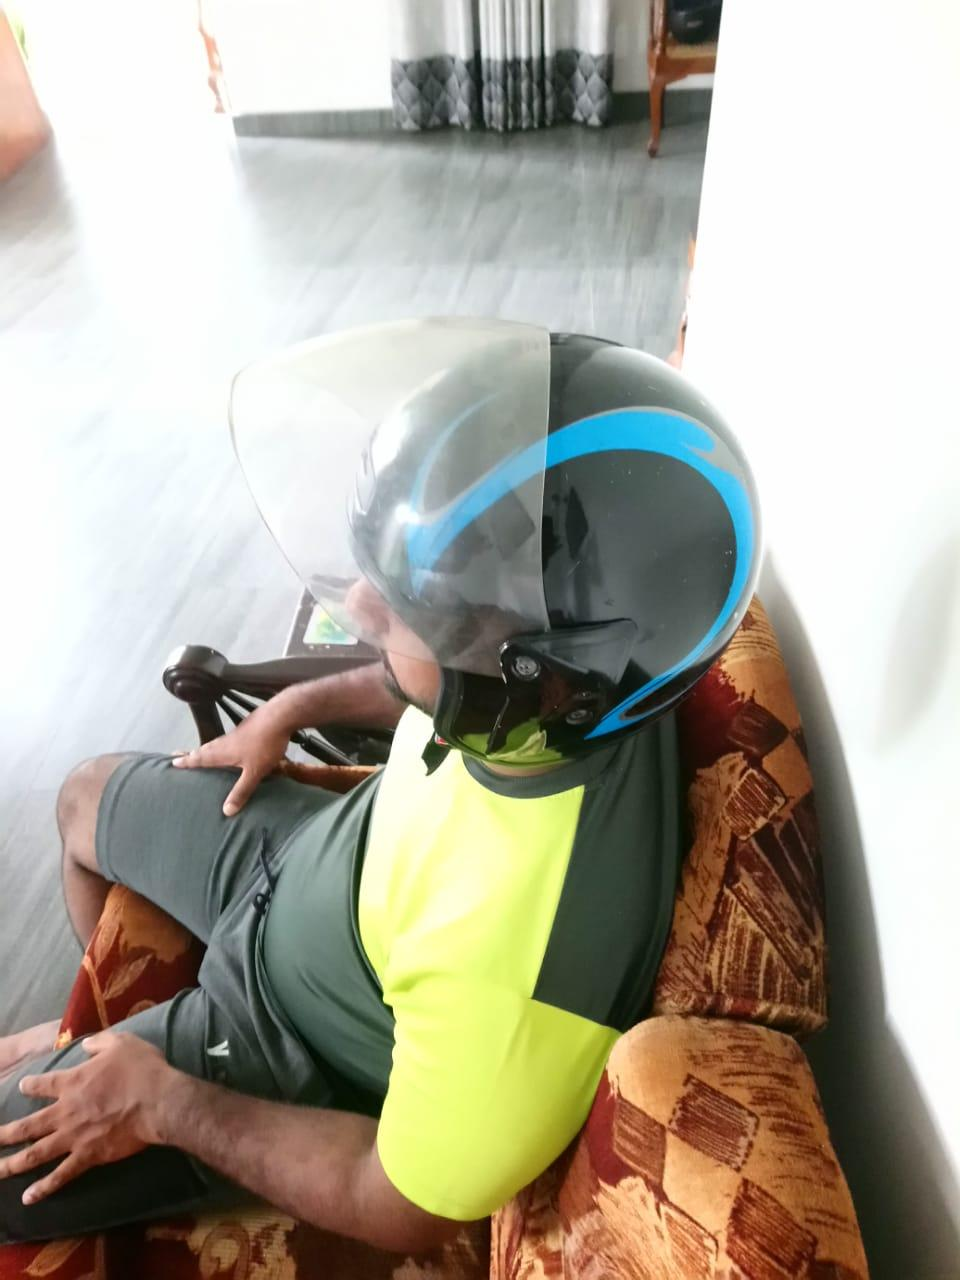helmet: (226, 311, 765, 763)
